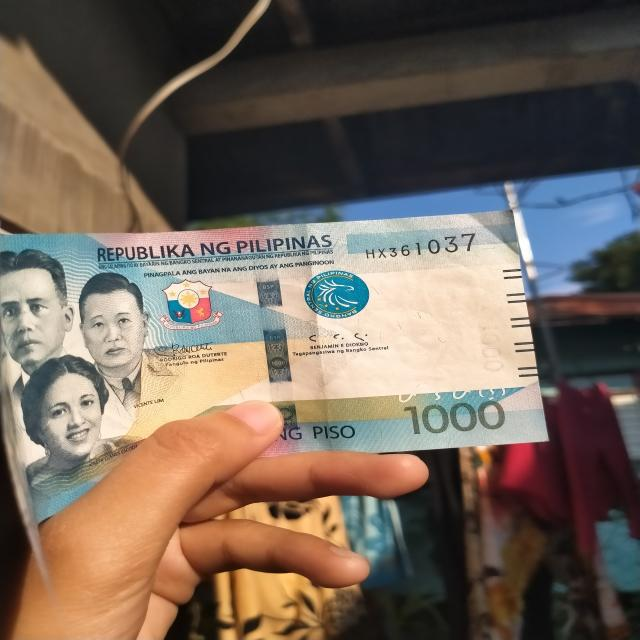security_thread: (248, 227, 302, 455)
see_through_mark: (389, 379, 512, 407)
serial_number: (353, 228, 477, 261)
value_watermark: (476, 321, 507, 374)
watermark: (356, 253, 481, 379)
